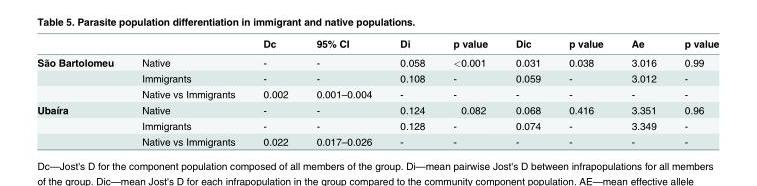table: (36, 37, 718, 146)
table column: (127, 37, 248, 146), (36, 37, 127, 146), (301, 37, 385, 146), (438, 37, 501, 146), (554, 37, 616, 146), (248, 37, 301, 146), (385, 37, 438, 146), (501, 37, 554, 146), (616, 37, 669, 146), (669, 37, 718, 146)
table column header: (36, 37, 718, 52)
table row: (36, 52, 718, 70), (36, 85, 718, 101), (36, 101, 718, 117), (36, 117, 718, 133), (36, 37, 718, 52), (36, 70, 718, 85), (36, 133, 718, 146)
table spanning cell: (36, 52, 127, 101), (36, 101, 127, 146)
